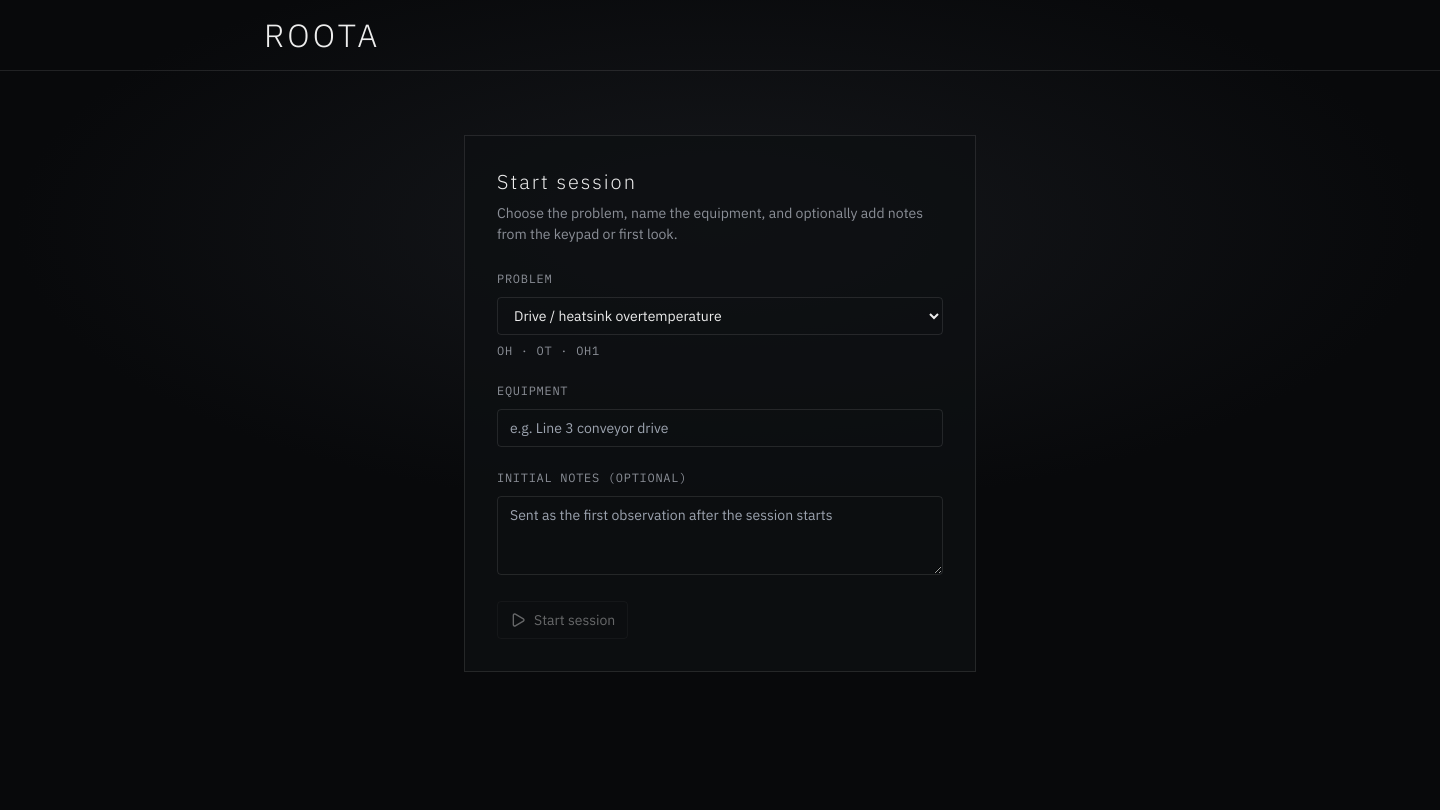
session in the URL › puts the session id in the URL when a session starts and clears it on New session
The width and height of the screenshot is (1440, 810).
Expected: the heading "Start session" is shown, [497,168,637,195]
Step 1. Select "Drive / heatsink overtemperature" in the dropdown labelled "Problem" → (720, 316), box [497,297,943,335]
Step 2. Type "Line 3" into the field labelled "Equipment" → (720, 428), box [497,409,943,447]
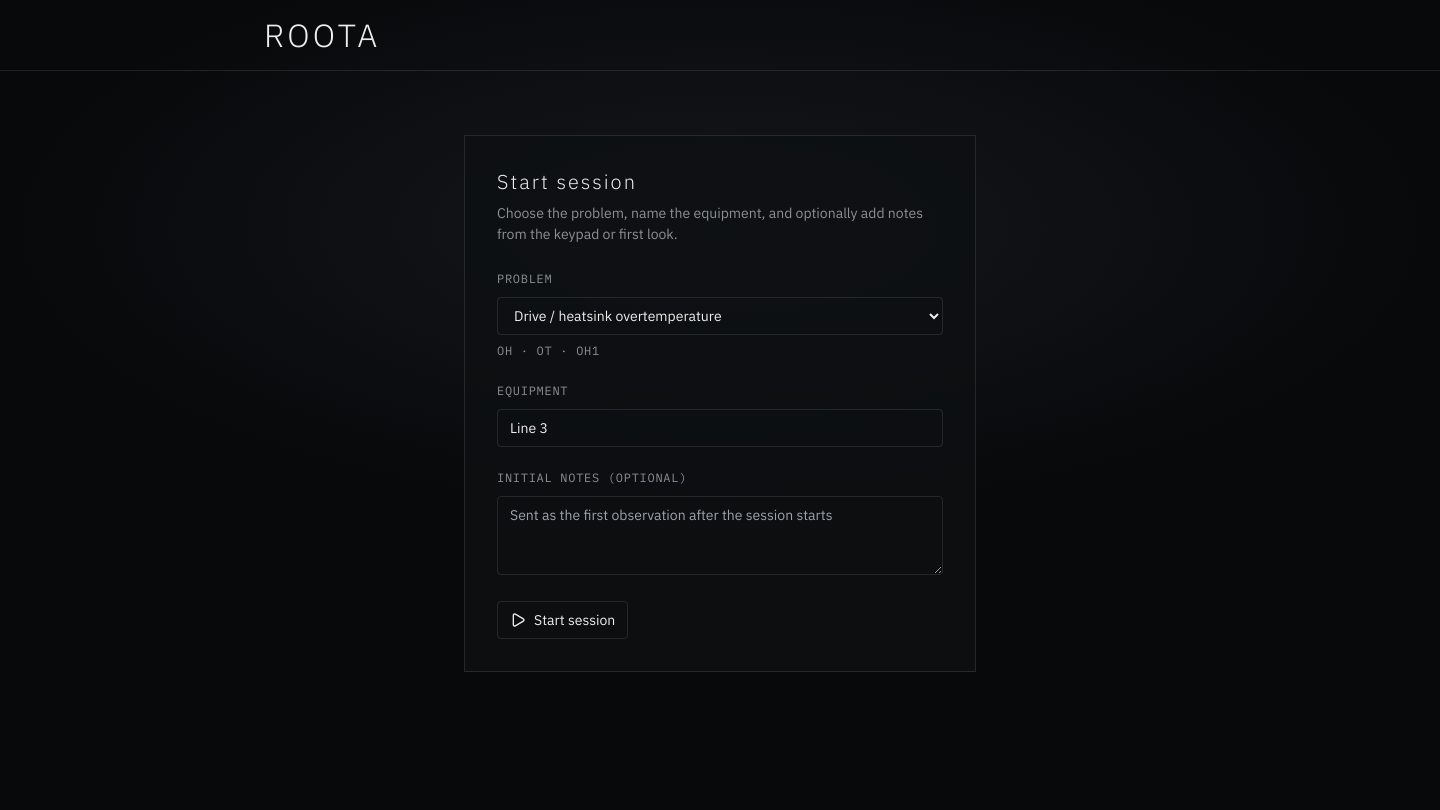
Step 3. Click the button "Start session" → (563, 620), box [497,601,628,639]
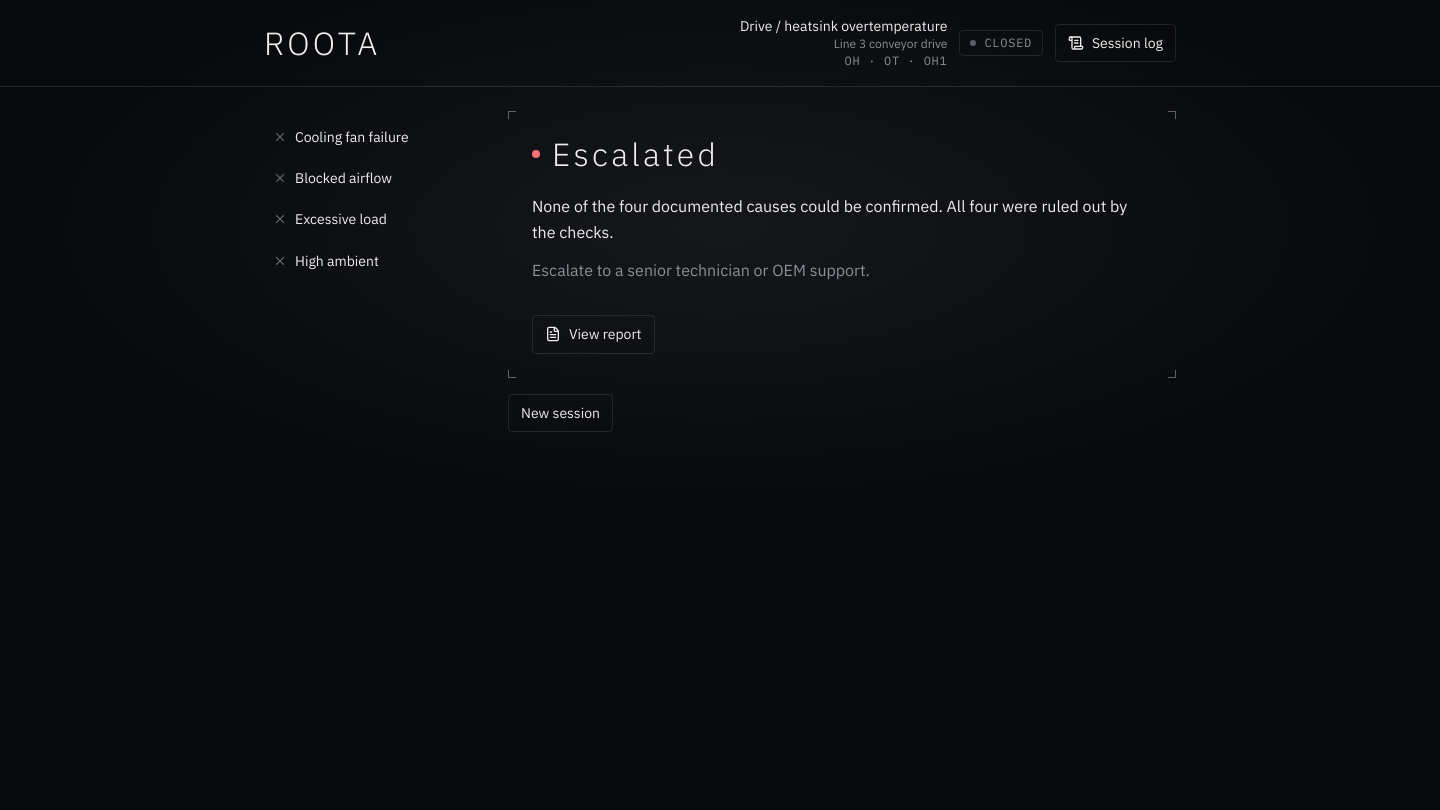
Now the heading "Escalated" is shown, box [532,133,719,175]
Step 4. Click the button "New session" → (560, 413), box [508,394,613,432]
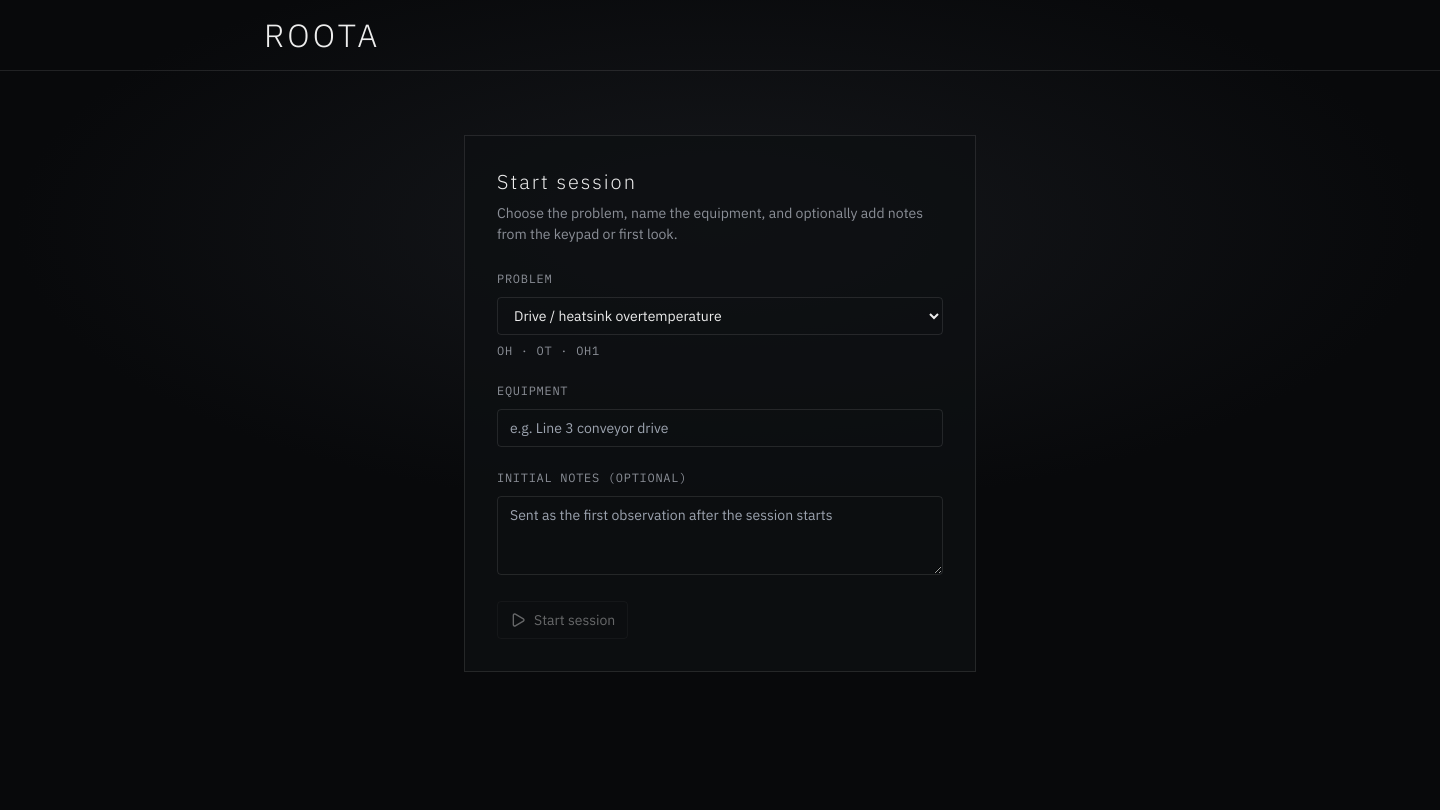
Now the heading "Start session" is shown, box [497,168,637,195]
